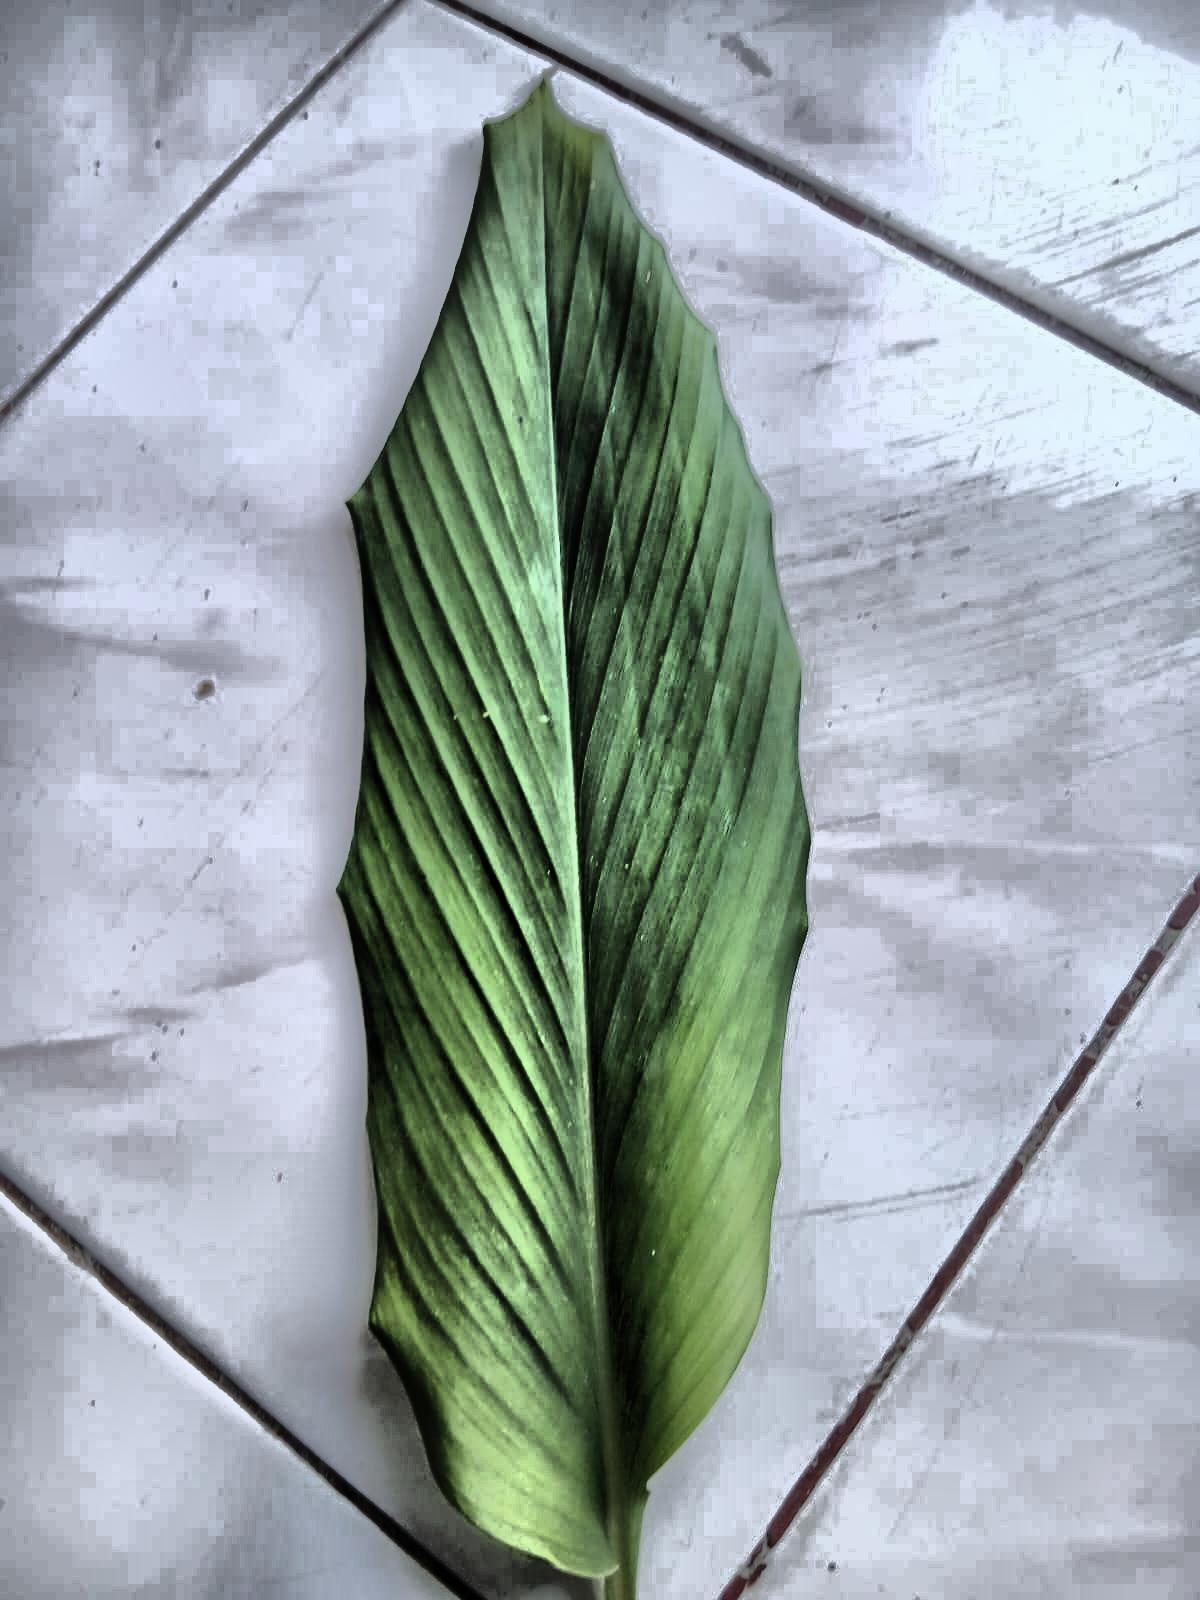daun kunyit: (338, 84, 809, 1599), (480, 728, 493, 734)
